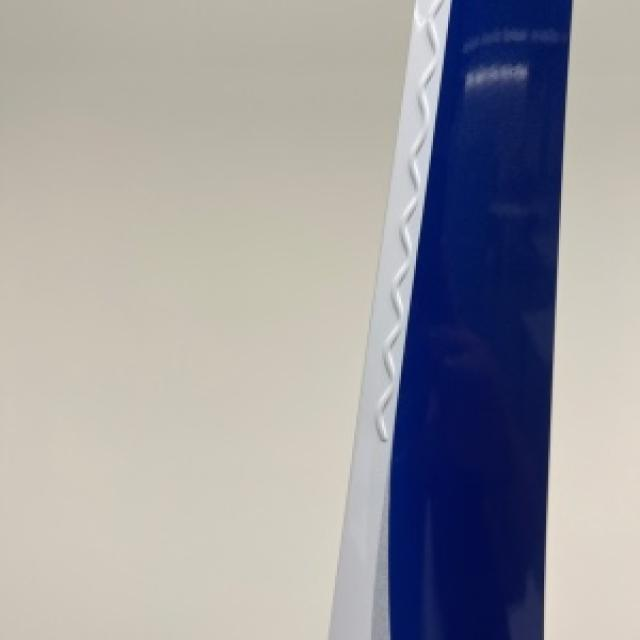healthy: (331, 0, 567, 638)
